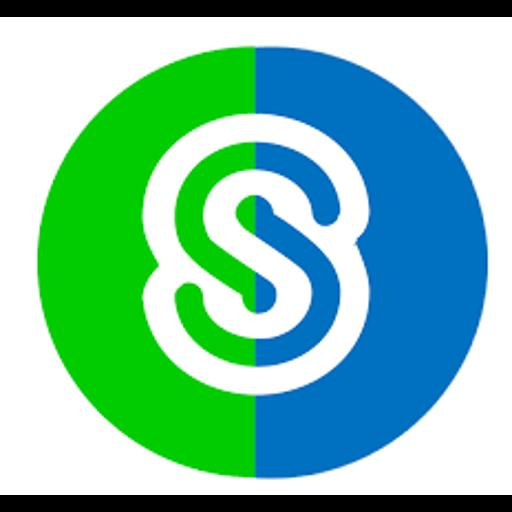Citrix ShareFile: (0, 17, 512, 495)
